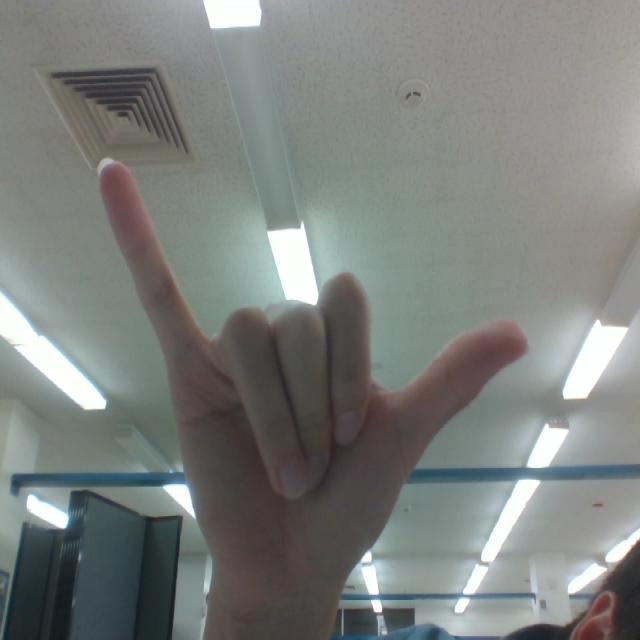Y: (86, 136, 557, 616)
